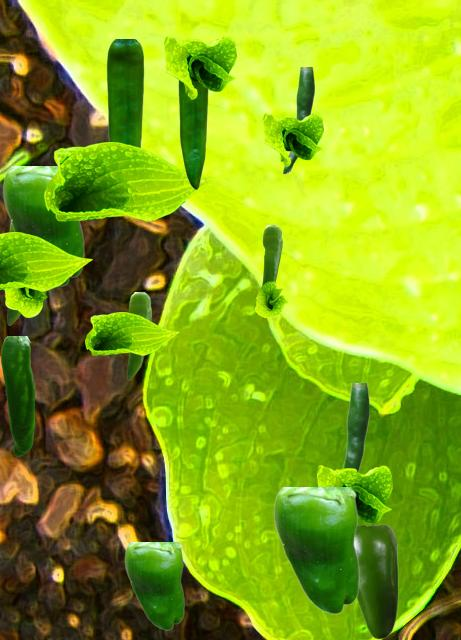green_chili: (273, 487, 358, 613), (2, 166, 83, 285), (124, 542, 183, 629), (355, 525, 397, 638), (106, 39, 143, 146), (1, 336, 33, 455), (282, 67, 313, 173), (178, 80, 207, 188), (343, 383, 368, 471), (127, 292, 150, 379), (7, 223, 20, 324), (261, 225, 281, 285)
